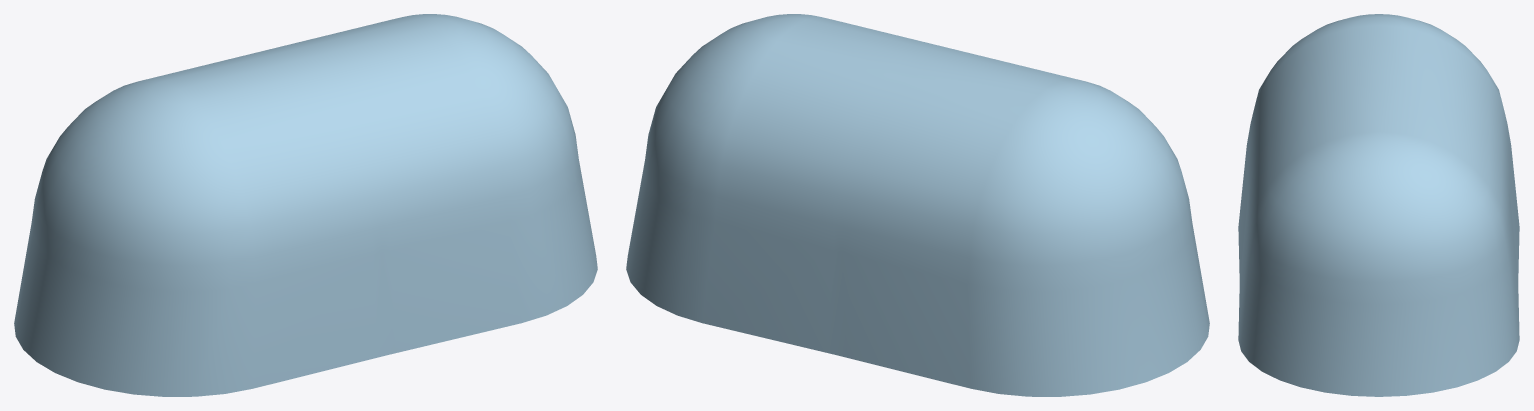
Rendered from PongChamp_Env_ArenaGlass.glb.
3 views of the same model, side by side, from view 1: azimuth 30°, elevation 25°; view 2: azimuth 150°, elevation 25°; view 3: azimuth 270°, elevation 25° (orthographic). The views are drawn at different scales.
Parts seen in each view (by area): view 1: glass.001; view 2: glass.001; view 3: glass.001.
Boxes of the visible parts, <box> form: glass.001: <box>14,14,597,396</box>; glass.001: <box>626,14,1209,396</box>; glass.001: <box>1238,14,1519,396</box>.
Size of the model in its own units: 89.18 by 37.59 by 46.72.
